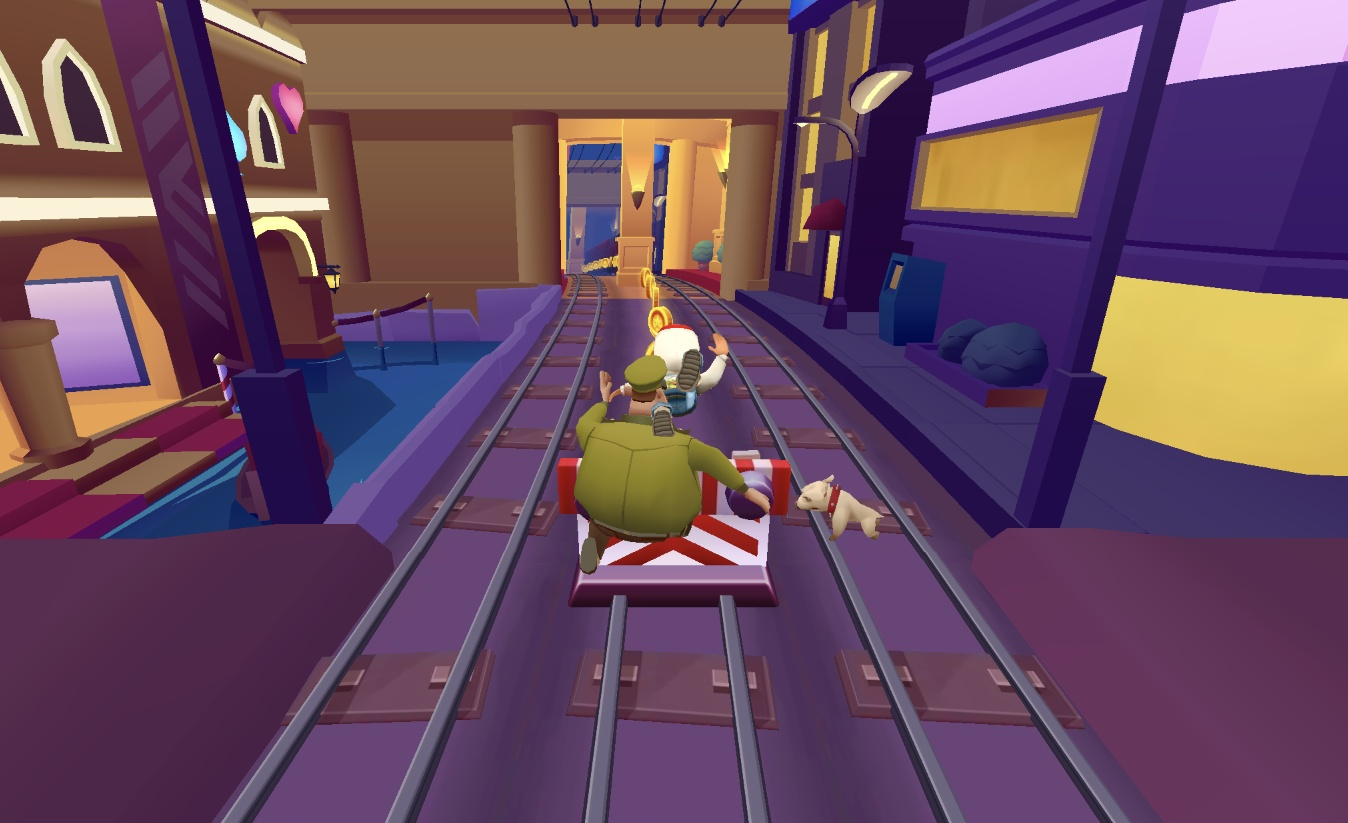ground_barrier: (549, 436, 802, 616)
pillar: (627, 117, 667, 273)
